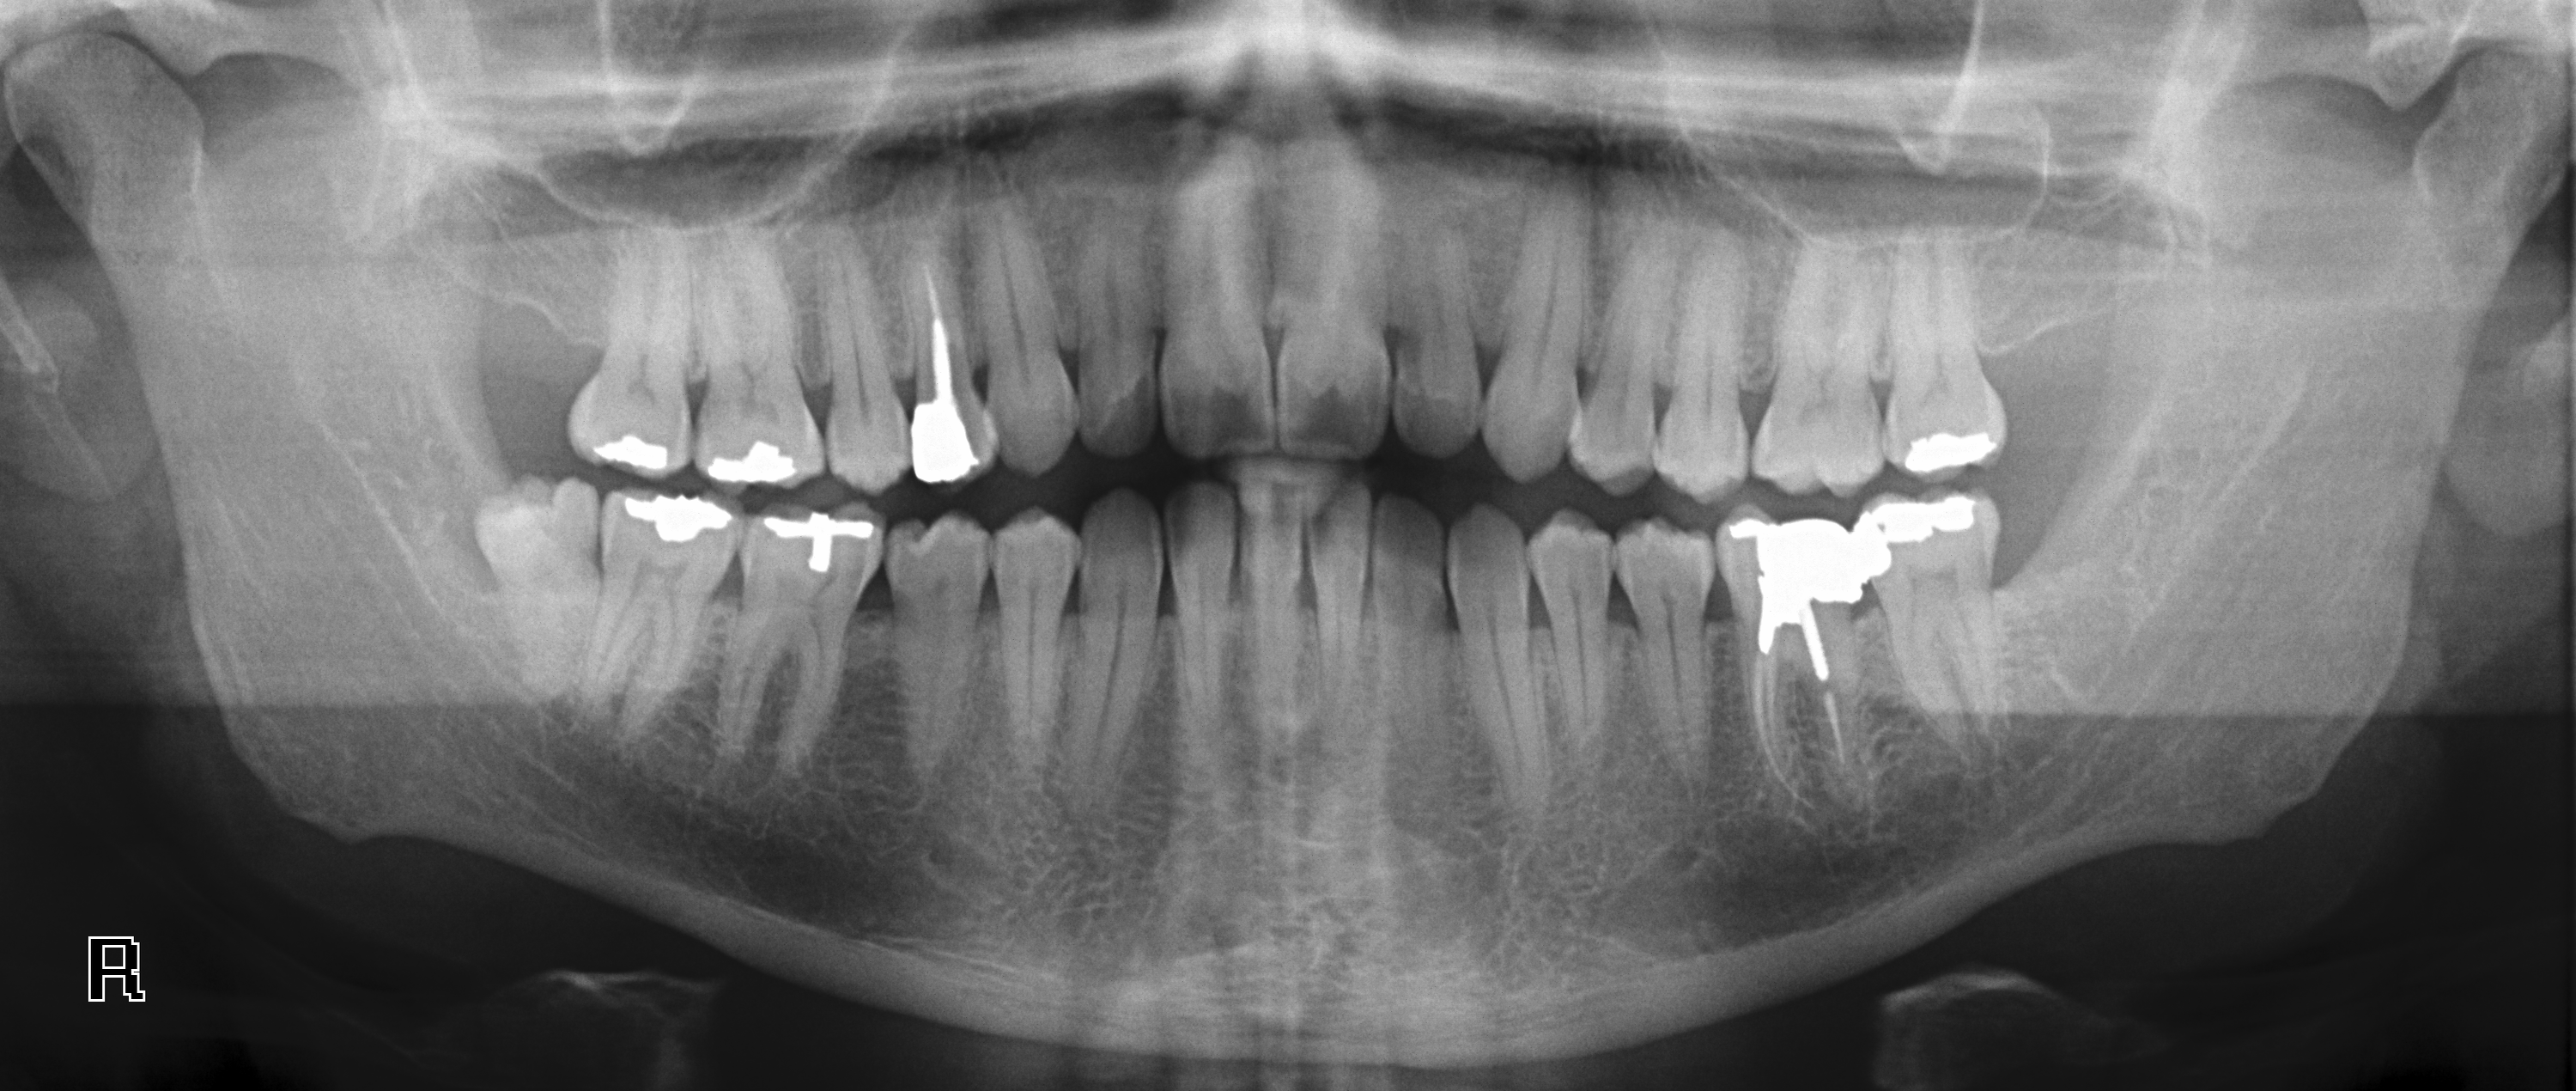11: (1161, 133, 1273, 462)
12: (1076, 163, 1160, 460)
13: (964, 150, 1076, 476)
14: (902, 200, 1002, 486)
15: (818, 179, 915, 504)
16: (695, 194, 816, 490)
17: (565, 205, 692, 478)
21: (1278, 113, 1390, 462)
22: (1398, 159, 1485, 460)
23: (1482, 158, 1590, 481)
24: (1574, 223, 1679, 490)
25: (1659, 228, 1755, 498)
26: (1751, 222, 1884, 496)
27: (1884, 230, 2014, 486)
31: (1304, 481, 1372, 744)
32: (1375, 491, 1449, 782)
33: (1449, 503, 1559, 836)
34: (1533, 508, 1621, 767)
35: (1607, 509, 1722, 802)
36: (1718, 504, 1861, 808)
37: (1856, 491, 2034, 738)
41: (1239, 478, 1299, 731)
42: (1165, 475, 1245, 753)
43: (1071, 483, 1163, 815)
44: (992, 503, 1074, 805)
45: (885, 506, 994, 795)
46: (710, 495, 897, 780)
47: (570, 486, 744, 734)
48: (465, 452, 596, 685)
spoon: (465, 452, 596, 685)
